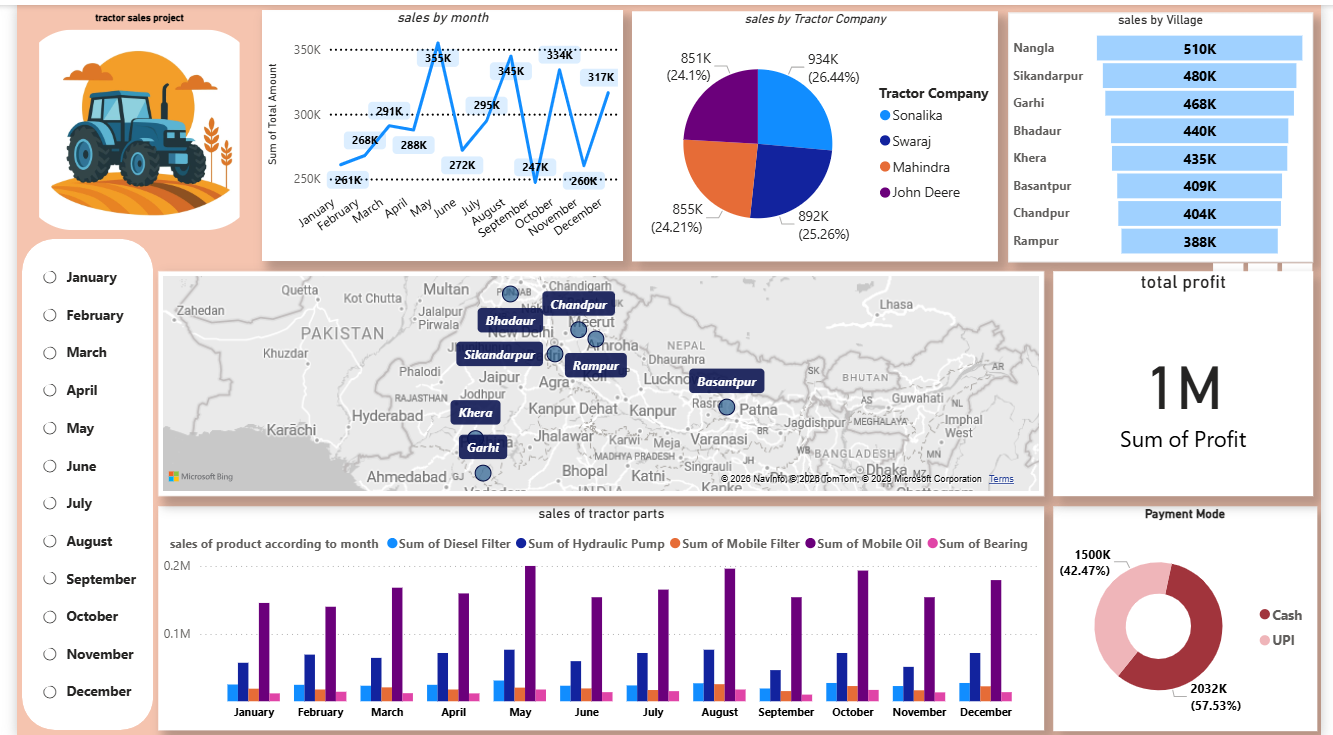

Layout of this report page (visuals, bound fields, positions):
{"tool":"powerbi","page":{"name":"Page 1","canvas":[1280,720],"ordinal":0},"visuals":[{"type":"clusteredColumnChart","title":"sales of tractor parts","fields":{"Category":["Sheet1.Date.Variation.Date Hierarchy.Month"],"Y":["Sum(Sheet1.Diesel Filter)","Sum(Sheet1.Hydraulic Pump)","Sum(Sheet1.Mobile Filter)","Sum(Sheet1.Mobile Oil)","Sum(Sheet1.Bearing)"]},"box":[138.7,492,869.9,219.6],"z":0},{"type":"shape","box":[4.9,229.4,128.8,482.2],"z":1000},{"type":"listSlicer","fields":{"Values":["Sheet1.Date.Variation.Date Hierarchy.Month"]},"box":[18.4,251.5,108,439.3],"z":2000},{"type":"lineChart","title":"sales by month","fields":{"Category":["Sheet1.Date.Variation.Date Hierarchy.Month"],"Y":["Sum(Sheet1.Total Amount)"]},"box":[240.5,4.9,354.6,246.6],"z":3000},{"type":"pieChart","title":"sales by Tractor Company","fields":{"Category":["Sheet1.Tractor Company"],"Y":["Sum(Sheet1.Total Amount)"]},"box":[603.7,6.1,359.5,245.4],"z":4000},{"type":"funnel","title":" sales by Village","fields":{"Category":["Sheet1.Village"],"Y":["Sum(Sheet1.Total Amount)"]},"box":[973.3,7.8,298.9,244.4],"z":5000},{"type":"donutChart","title":" Payment Mode","fields":{"Y":["Sum(Sheet1.Total Amount)"],"Category":["Sheet1.Payment Mode"]},"box":[1017.2,492,258.9,220.9],"z":6000},{"type":"map","fields":{"Category":["Sheet1.Village"]},"box":[138.7,261.4,869.9,220.9],"z":7000},{"type":"image","title":"tractor sales project","box":[4.9,7.4,230.7,213.5],"z":8000},{"type":"card","title":"total profit","fields":{"Values":["Sum(Sheet1.Profit)"]},"box":[1017.2,261.4,255.2,220.9],"z":9000}]}

Visuals, with their boxes in screenshot pixels (x1, y1, x2, y2), scaled from the page's 1280x720 canvas onto the 1333x735 screenshot:
"sales of tractor parts" clusteredColumnChart: BBox(144, 502, 1050, 726)
shape: BBox(5, 234, 139, 726)
listSlicer - Sheet1.Date.Variation.Date Hierarchy.Month: BBox(19, 257, 132, 705)
"sales by month" lineChart: BBox(250, 5, 620, 257)
"sales by Tractor Company" pieChart: BBox(629, 6, 1003, 257)
" sales by Village" funnel: BBox(1014, 8, 1325, 257)
" Payment Mode" donutChart: BBox(1059, 502, 1329, 728)
map - Sheet1.Village: BBox(144, 267, 1050, 492)
"tractor sales project" image: BBox(5, 8, 245, 226)
"total profit" card: BBox(1059, 267, 1325, 492)
